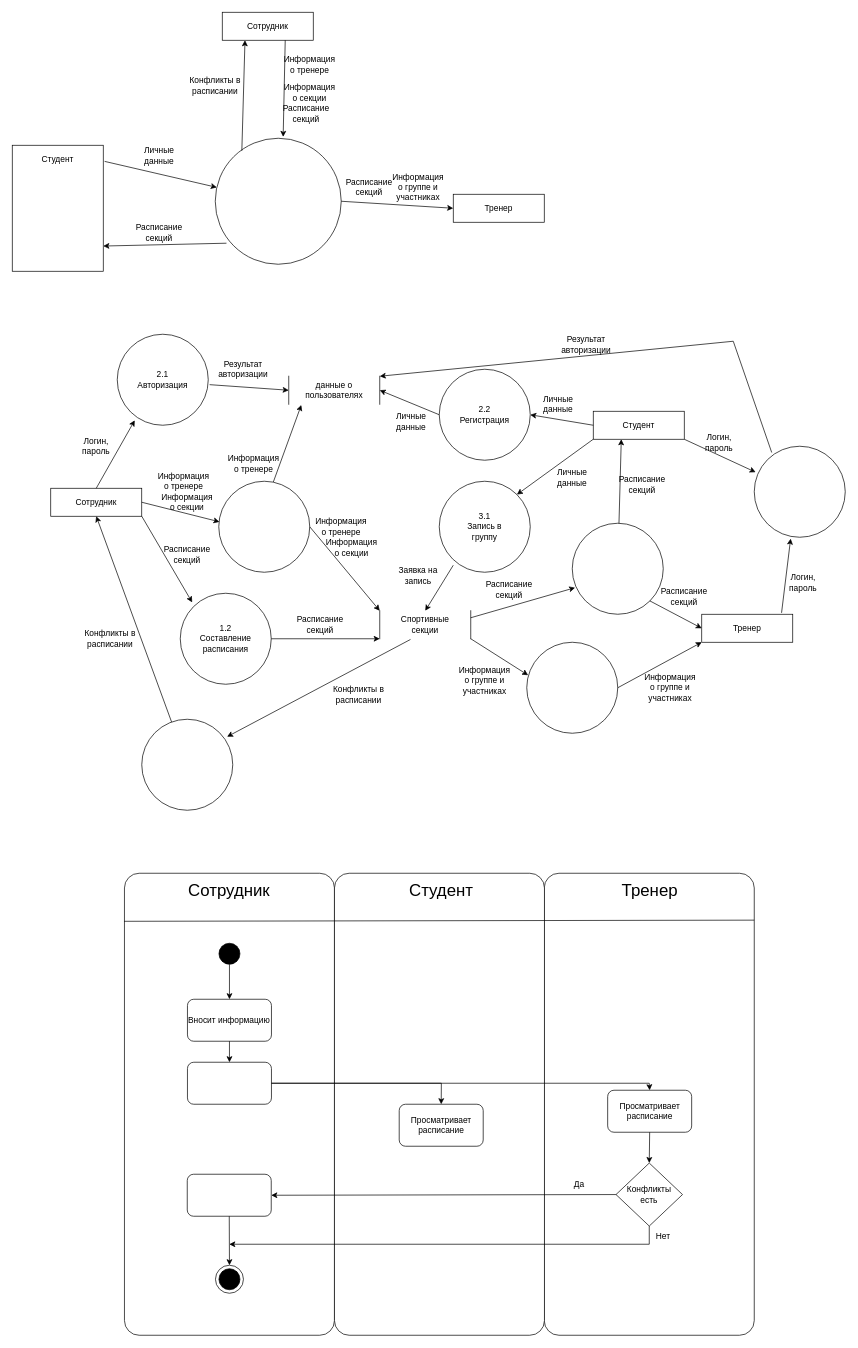
Image size: 858x1348. Some labels were removed from this diagram. Here are the shapes that lost their labels. From the top down, the box of each, then its label:
(754, 446, 845, 537): 2.3 Авторизация
(218, 481, 310, 572): 1.1 Добавление информации
(572, 523, 663, 614): 1.5 Предоставление расписания
(526, 642, 618, 733): 1.4 Предоставление информации
(141, 719, 233, 810): 1.3 Передача информации
(187, 1062, 271, 1104): Составляет расписание
(187, 1174, 271, 1216): Обновляет расписание
